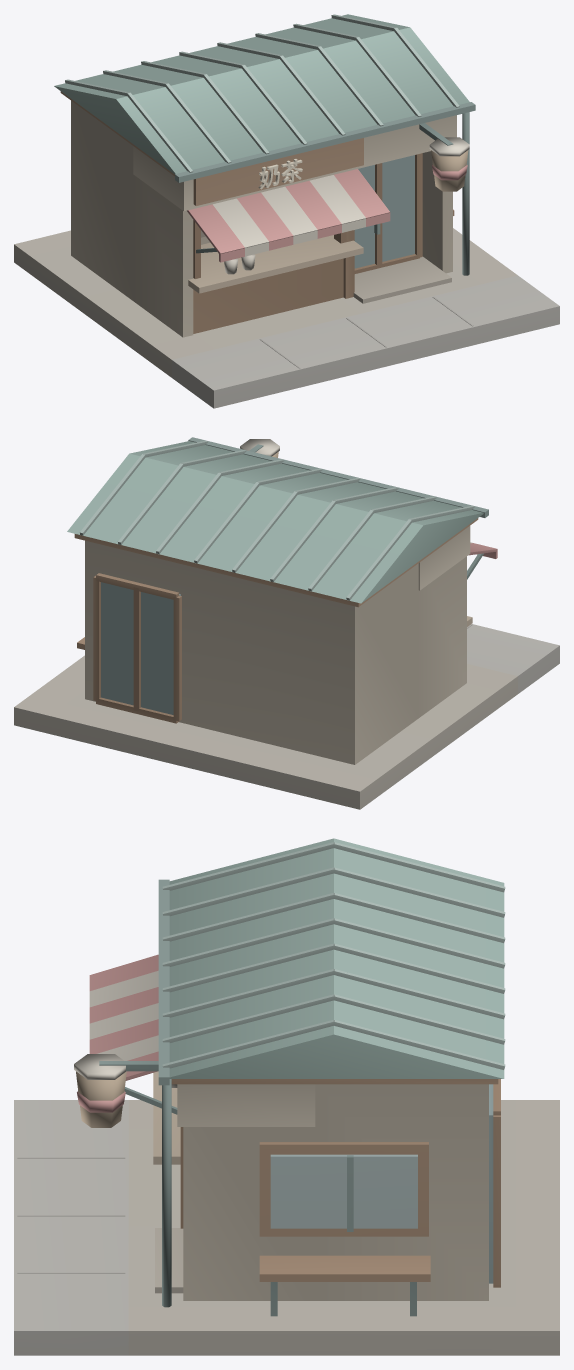
File: milk-tea.glb
The picture shows the model from 3 angles, top to bottom: view 1: azimuth 30°, elevation 25°; view 2: azimuth 150°, elevation 25°; view 3: azimuth 270°, elevation 25°; orthographic projection. The views are drawn at different scales.
Visible parts, largest first — view 1: milk-tea; view 2: milk-tea; view 3: milk-tea.
Boxes of the visible parts, bbox=[...] form: milk-tea: bbox=[14, 14, 559, 408]; milk-tea: bbox=[14, 437, 559, 809]; milk-tea: bbox=[14, 838, 559, 1355].
Bounding box in the file's own units: 1 × 0.613 × 1.
